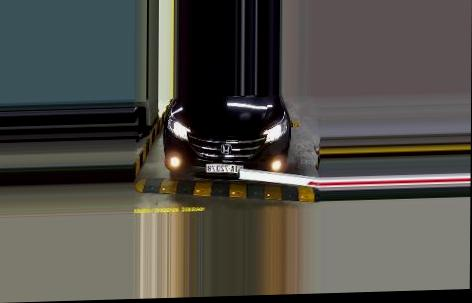License_Plate: (203, 162, 246, 174)
